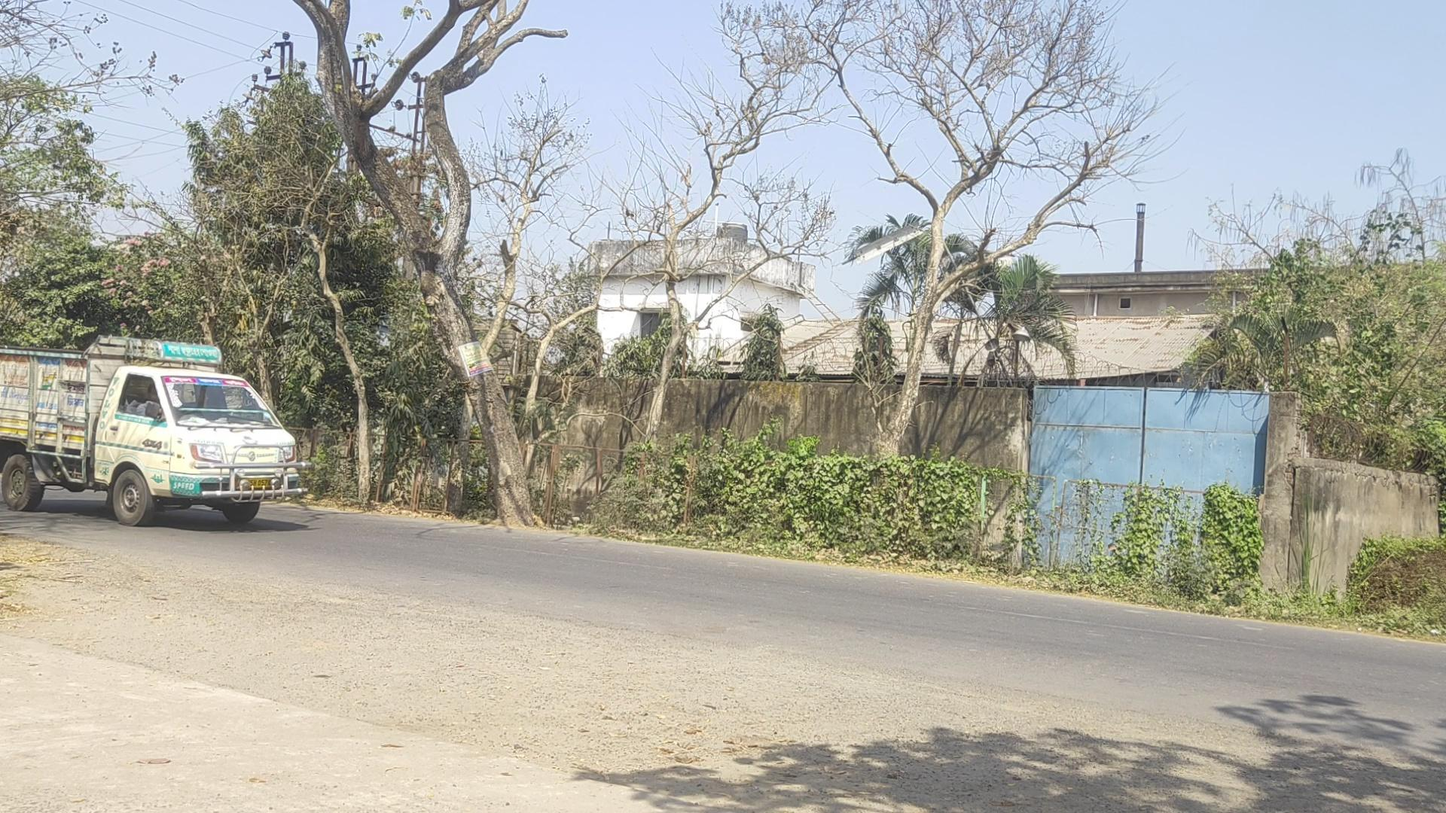van: (1, 333, 311, 528)
